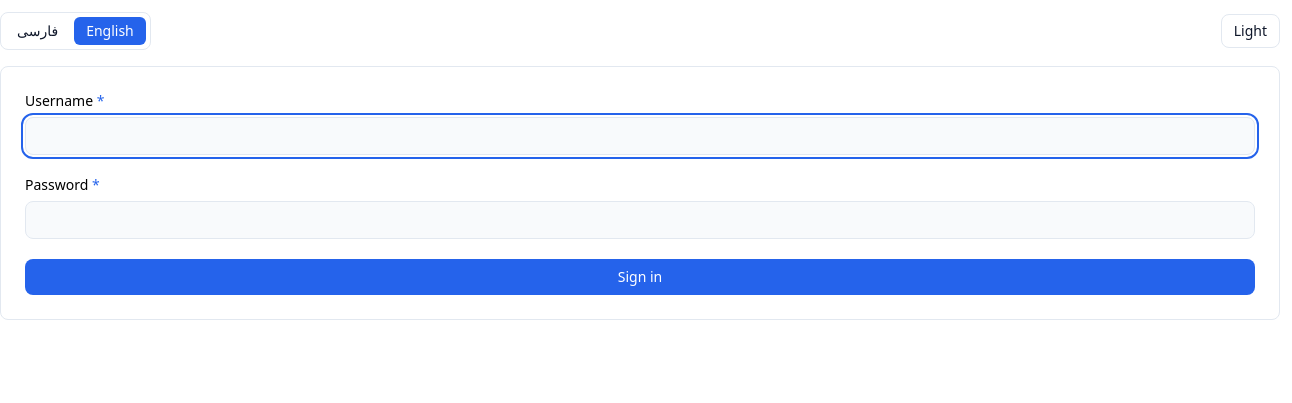
Test: network / server failure › shows the generic server message for other statuses and no stack trace
Type "smoke-user" into the field labelled "Username *". click: {"x": 640, "y": 136}
box: [25, 117, 1255, 155]
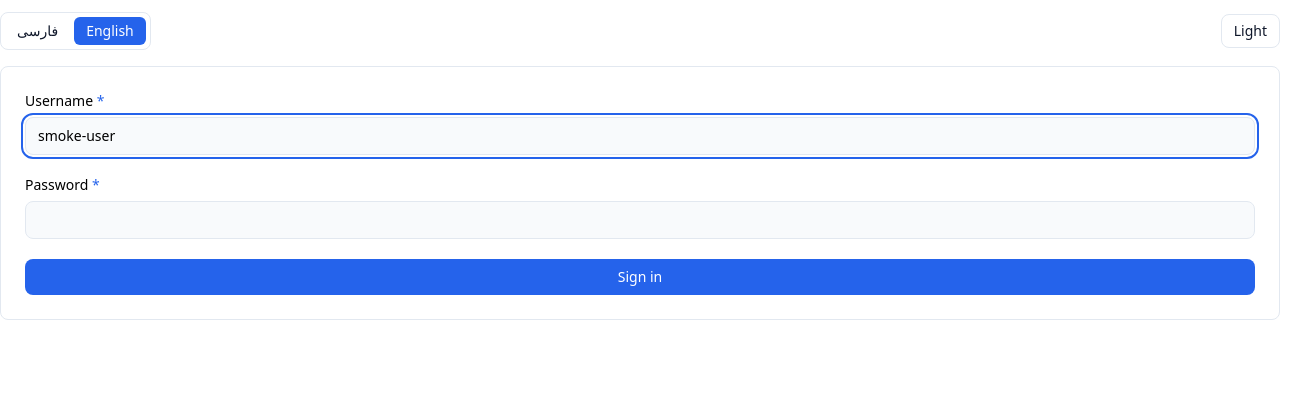
Type "pass-1234" into the password field labelled "Password *". click: {"x": 640, "y": 220}
box: [25, 201, 1255, 239]
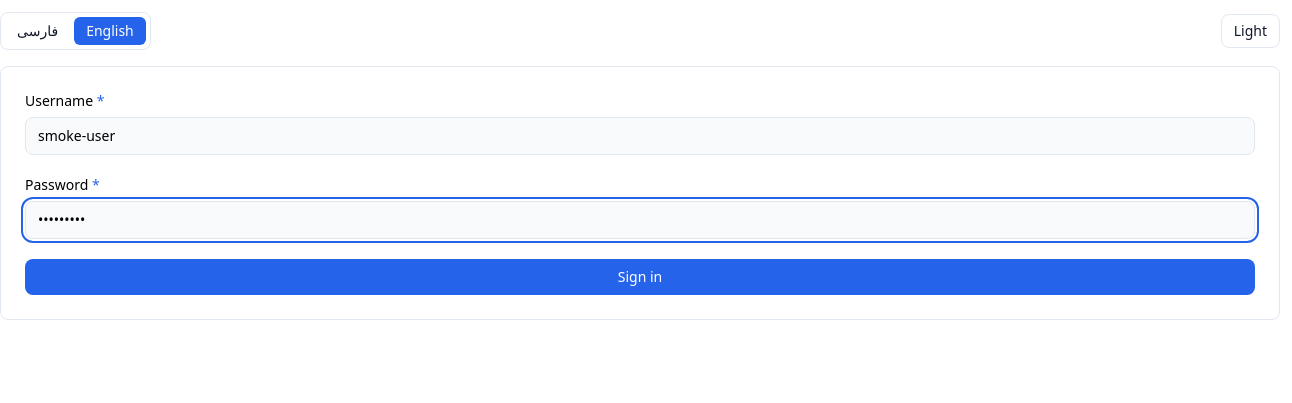
Click the button "Sign in". click: {"x": 640, "y": 277}
box: [25, 259, 1255, 295]
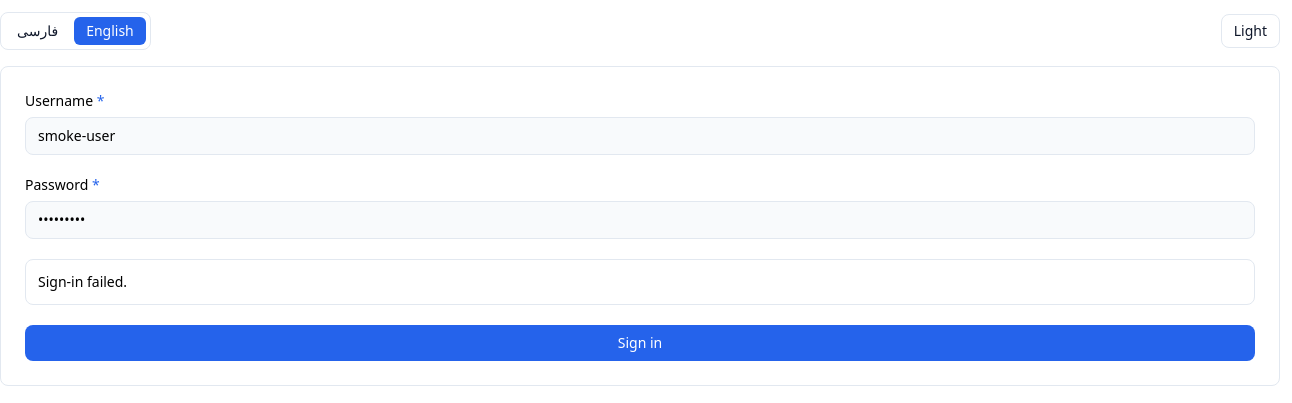
Expected: the message reads "Sign-in failed.", [38, 272, 127, 291]
